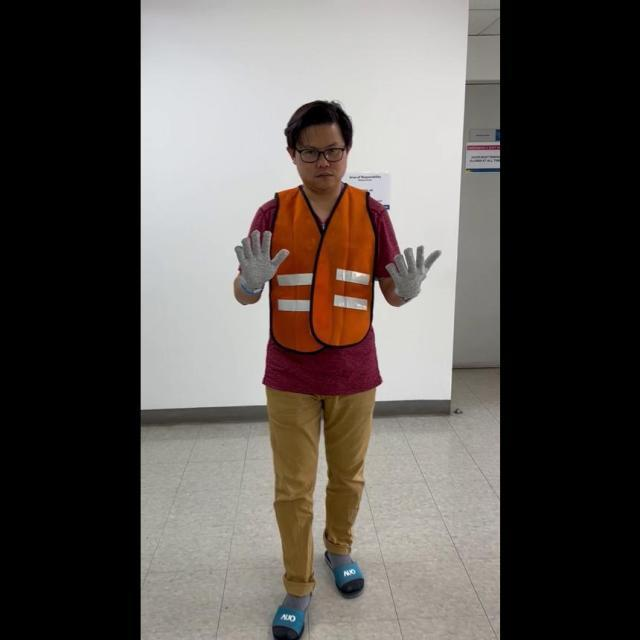gloved_hand: (231, 225, 288, 292), (383, 239, 439, 301)
